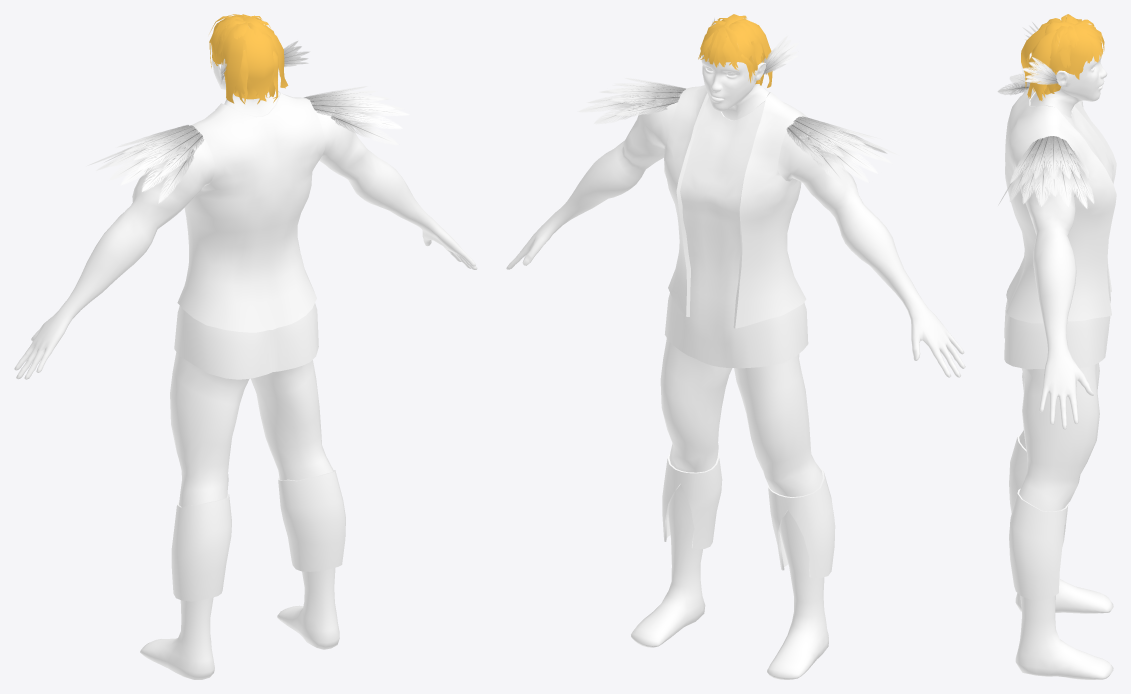
Rendered from Novice Mixamo.glb.
The picture shows the model from 3 angles, left to right: view 1: azimuth 30°, elevation 25°; view 2: azimuth 150°, elevation 25°; view 3: azimuth 270°, elevation 25°; orthographic projection.
Visible parts, largest first — view 1: Body; view 2: Body; view 3: Body.
Boxes of the visible parts, x1,y1,x2,y2 form: Body: (14,14,477,679); Body: (506,14,965,679); Body: (997,14,1116,679).
Bounding box in the file's own units: 1.44 × 1.92 × 0.3415.
Materials: 5 (2 with a texture image).
